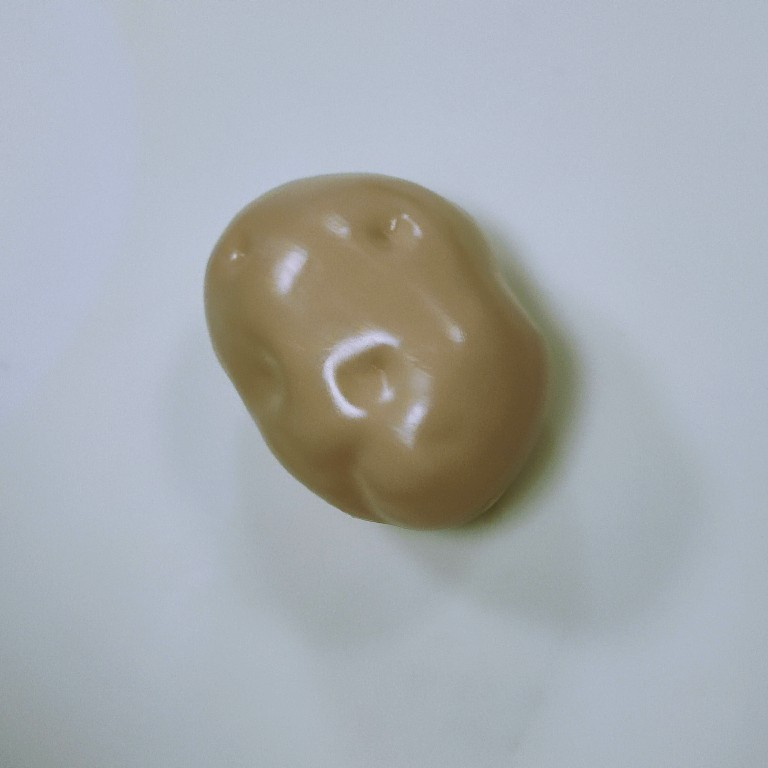fruit_potato: (194, 165, 558, 534)
